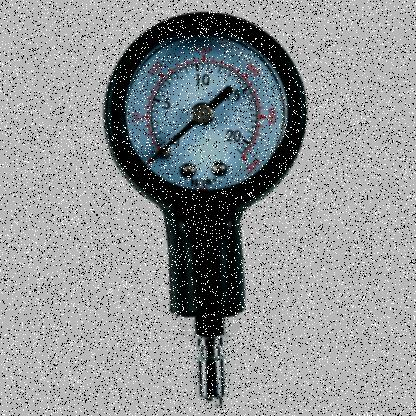needle: (147, 118, 198, 164)
